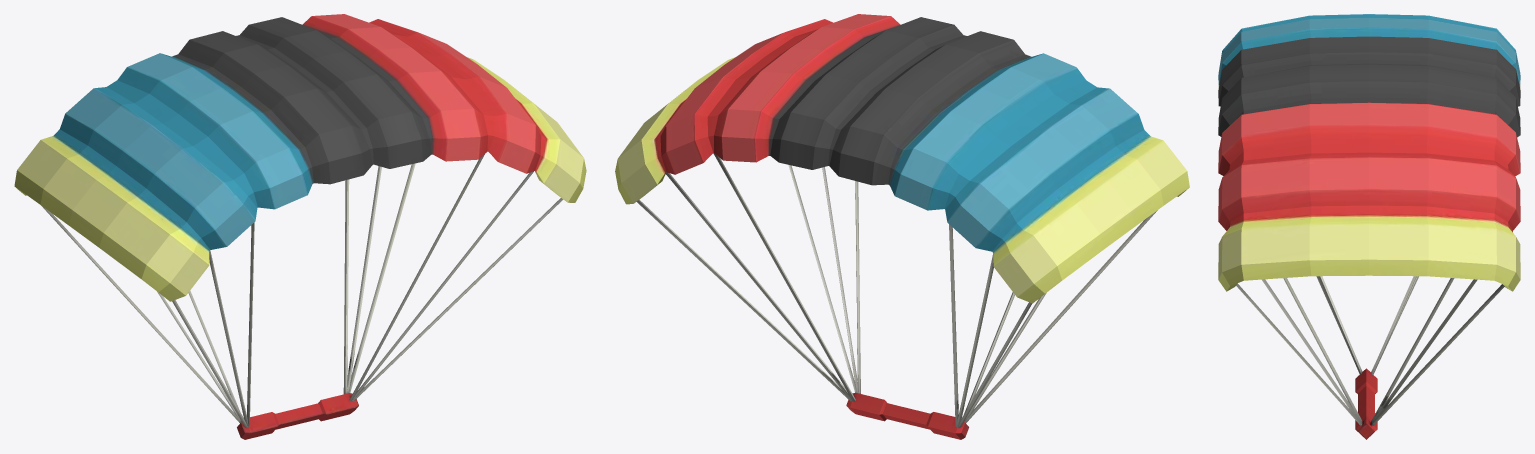
File: parachute.glb
The picture shows the model from 3 angles, left to right: view 1: azimuth 30°, elevation 25°; view 2: azimuth 150°, elevation 25°; view 3: azimuth 270°, elevation 25°; orthographic projection.
Visible parts, largest first — view 1: Object_2; view 2: Object_2; view 3: Object_2.
Boxes of the visible parts, <box> form: Object_2: <box>14,14,586,439</box>; Object_2: <box>615,14,1189,439</box>; Object_2: <box>1218,14,1520,439</box>.
Size of the model in its own units: 9.11 by 6.83 by 5.22.
Materials: 1 (1 with a texture image).
